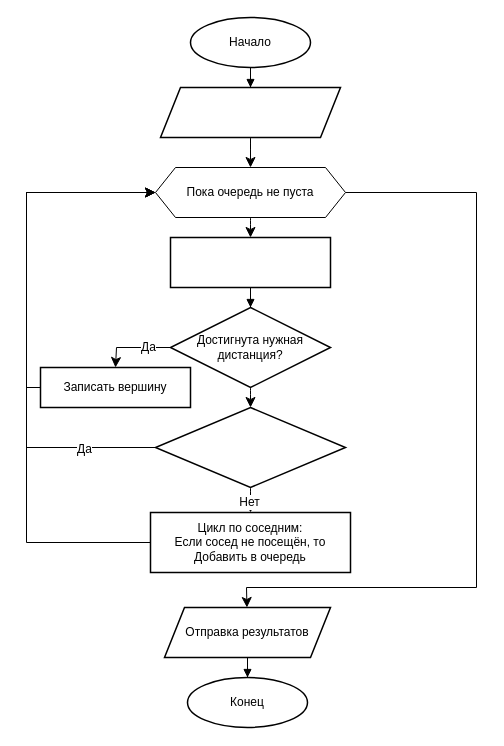
Some shapes in this 504 by 746 pixel diagram are drawn without their labels. Here are the shapes that lost their labels. From the top down, the centre of each, then its label:
pixel 250 112: Получение параметров
pixel 250 262: Просмотреть параметры текущей вершины
pixel 250 447: Достигнут конец графа?
